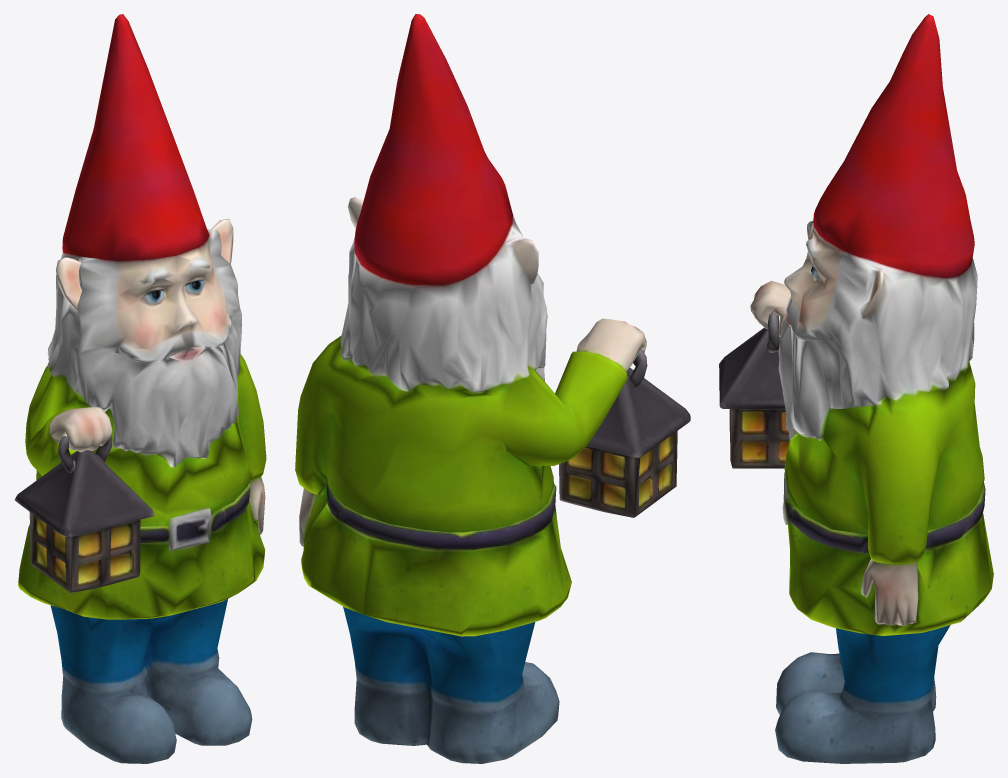
File: gnome.glb
The picture shows the model from 3 angles, left to right: view 1: azimuth 30°, elevation 25°; view 2: azimuth 150°, elevation 25°; view 3: azimuth 270°, elevation 25°; orthographic projection. The views are drawn at different scales.
Visible parts, largest first — view 1: garden_gnome; view 2: garden_gnome; view 3: garden_gnome.
Boxes of the visible parts, left/top/right/bottom form: garden_gnome: left=14, top=14, right=266, bottom=763; garden_gnome: left=295, top=14, right=690, bottom=763; garden_gnome: left=719, top=14, right=993, bottom=763.
Size of the model in its own units: 0.2574 by 0.5984 by 0.2091.
1 material, 1 textured.
